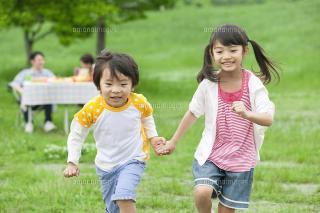person - v3 P: (65, 60, 163, 210), (10, 48, 60, 114)
